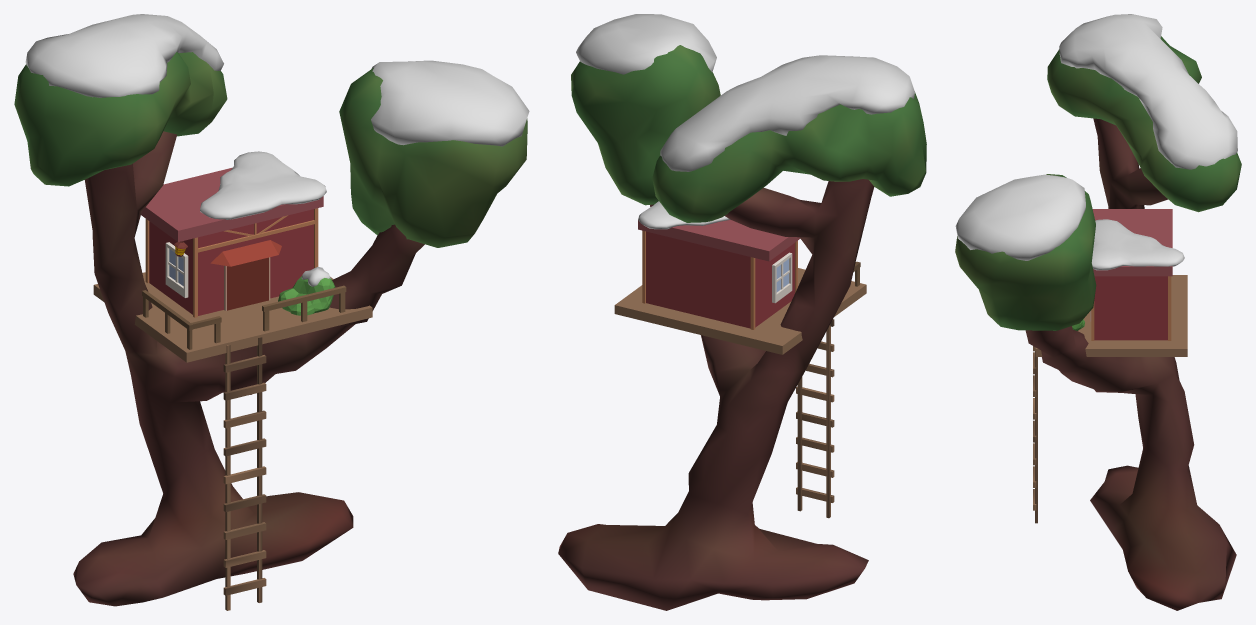
The model's file is Treehouse.fbx.
3 views of the same model, side by side, from view 1: azimuth 30°, elevation 25°; view 2: azimuth 150°, elevation 25°; view 3: azimuth 270°, elevation 25° (orthographic). The views are drawn at different scales.
Visible parts, largest first — view 1: TreehouseTree, TreehouseTreeLeaves, TreehouseHouse, TreehouseeTreeSnow, TreehouseLadder, TreehouseHouseSnow, TreehouseFence, TreehouseCouch, TreehouseWindow; view 2: TreehouseTree, TreehouseTreeLeaves, TreehouseeTreeSnow, TreehouseHouse, TreehouseLadder, TreehouseHouseSnow, TreehouseWindow; view 3: TreehouseTree, TreehouseeTreeSnow, TreehouseTreeLeaves, TreehouseHouse, TreehouseHouseSnow, TreehouseLadder.
Boxes of the visible parts, box(x1,y1,x2,y2) form: TreehouseTree: box(73, 131, 424, 606); TreehouseTreeLeaves: box(14, 52, 527, 247); TreehouseHouse: box(93, 167, 372, 362); TreehouseeTreeSnow: box(25, 14, 529, 146); TreehouseLadder: box(223, 337, 266, 610); TreehouseHouseSnow: box(200, 151, 326, 219); TreehouseFence: box(142, 285, 346, 349); TreehouseCouch: box(278, 276, 335, 315); TreehouseWindow: box(165, 242, 188, 297); TreehouseTree: box(558, 179, 874, 610); TreehouseTreeLeaves: box(571, 45, 926, 222); TreehouseeTreeSnow: box(576, 14, 914, 171); TreehouseHouse: box(614, 220, 866, 354); TreehouseLadder: box(796, 319, 834, 518); TreehouseHouseSnow: box(638, 201, 730, 229); TreehouseWindow: box(772, 252, 792, 303); TreehouseTree: box(1025, 118, 1236, 610); TreehouseeTreeSnow: box(955, 14, 1237, 260); TreehouseTreeLeaves: box(955, 36, 1241, 330); TreehouseHouse: box(1035, 209, 1187, 356); TreehouseHouseSnow: box(1091, 219, 1184, 270); TreehouseLadder: box(1033, 346, 1037, 523).
Bounding box in the file's own units: 1130 × 1485 × 800.
